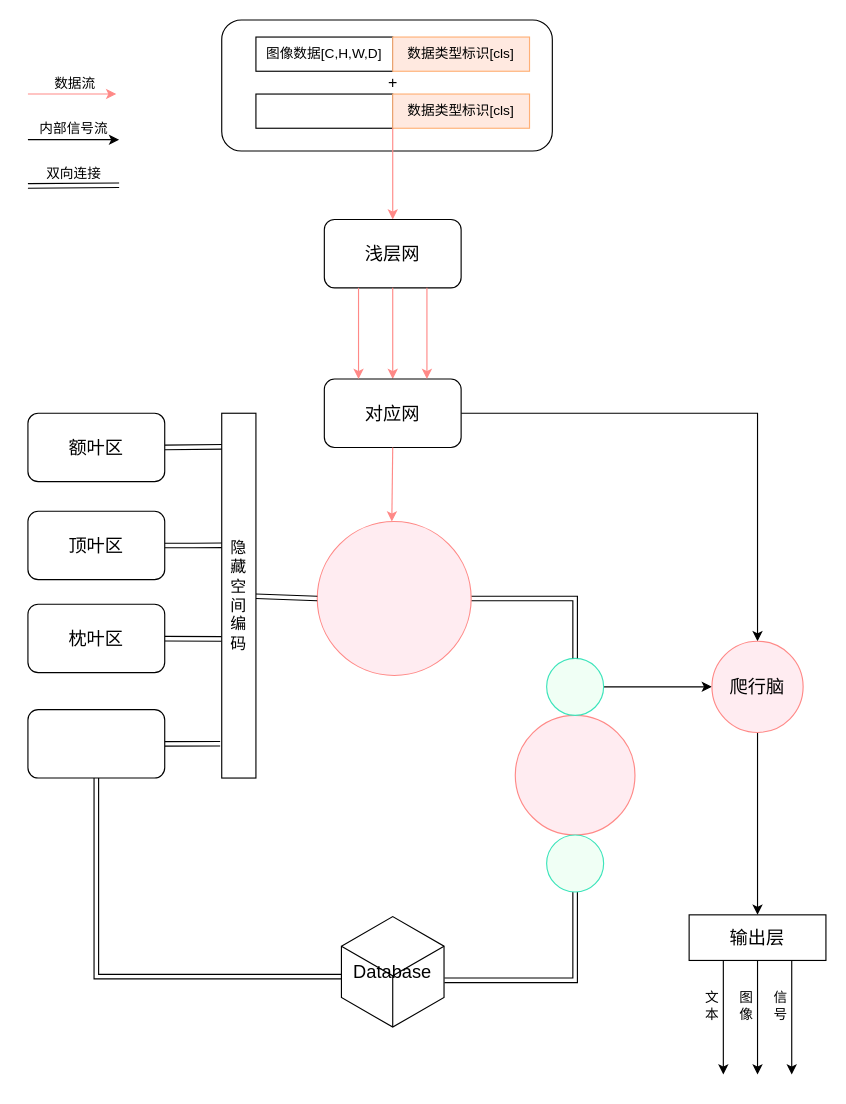
Image size: 846x1104. Some labels were removed from this diagram. Each missing label, with the centre of its shape:
"人类脑" belongs at (393,597).
"哺乳脑" belongs at (574,774).
"数据序列[seq]" belongs at (324,110).
"杏仁核" belongs at (574,686).
"海马体" belongs at (574,863).
"颞叶区" belongs at (96,743).
